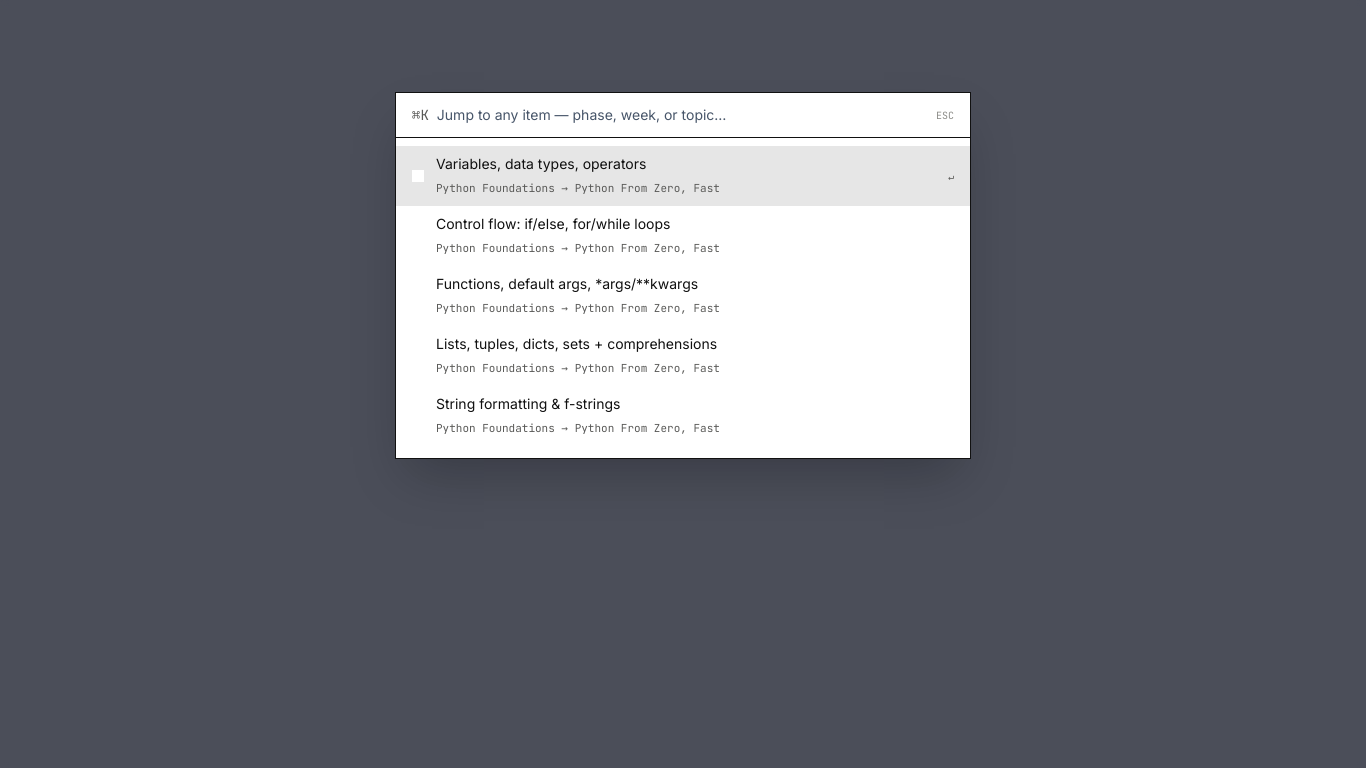
Scenario: <CommandPalette /> › shows an honest empty state for no matches (no demo data)
In the field with test id "command-palette-input": (682, 115) [437,93,928,137], type "zzzqqq_nomatch"
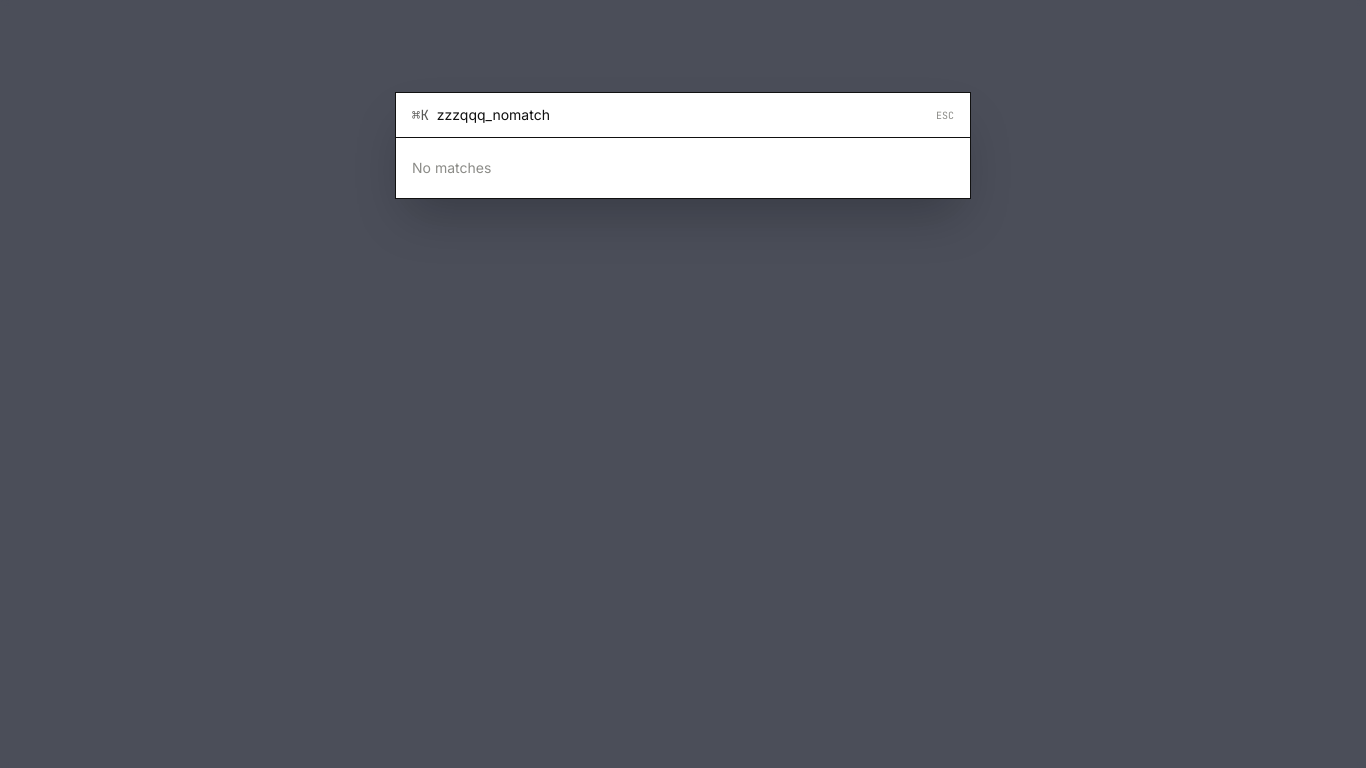
Check: the list item "No matches" is shown, box [412,159,491,176]
